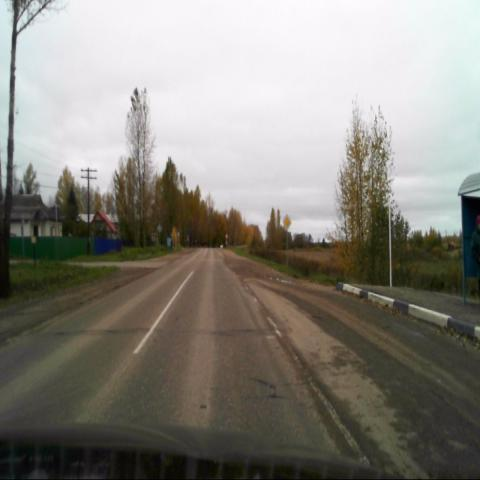2_1: (283, 213, 291, 231)
